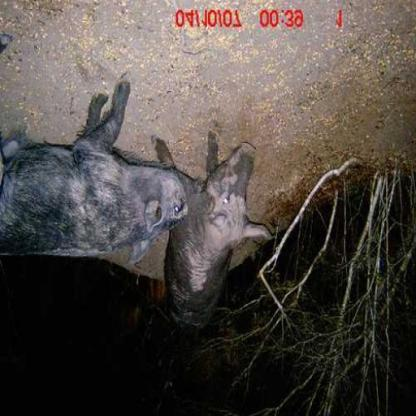boar: (139, 98, 304, 352), (0, 42, 187, 266)
